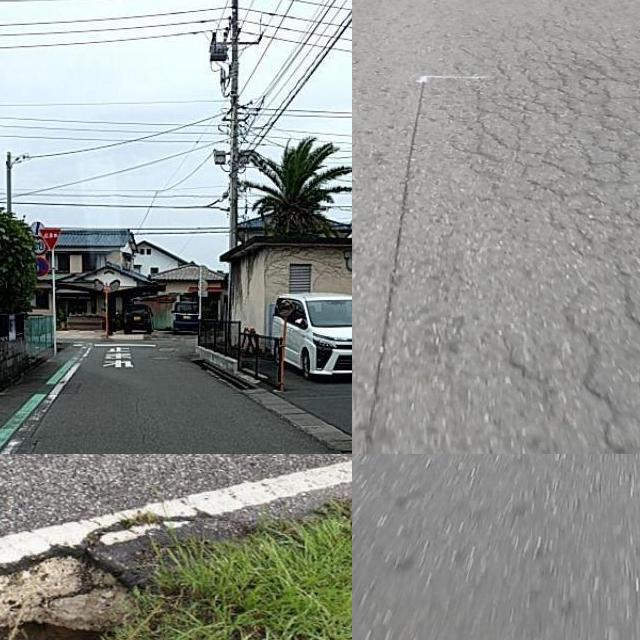Pinggir: (0, 547, 224, 640)
Retak Buaya: (422, 23, 640, 454)
